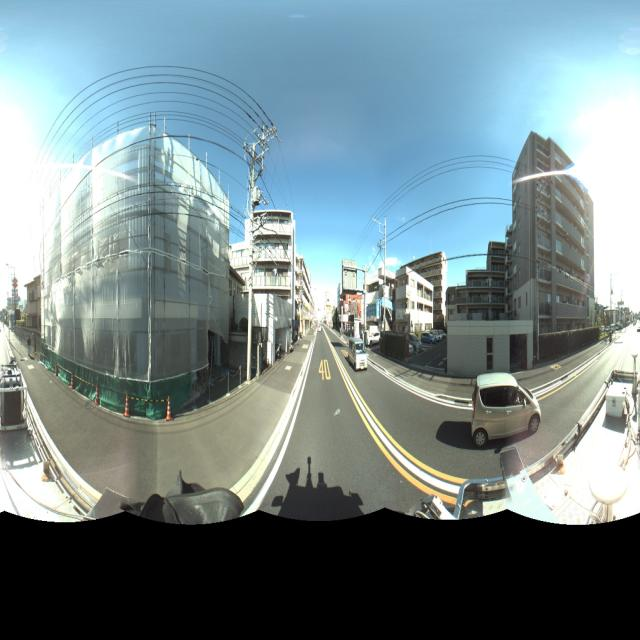b_1: (44, 119, 233, 394), (508, 141, 602, 354), (445, 240, 512, 334), (248, 204, 294, 334), (394, 266, 433, 341), (22, 272, 44, 342)
